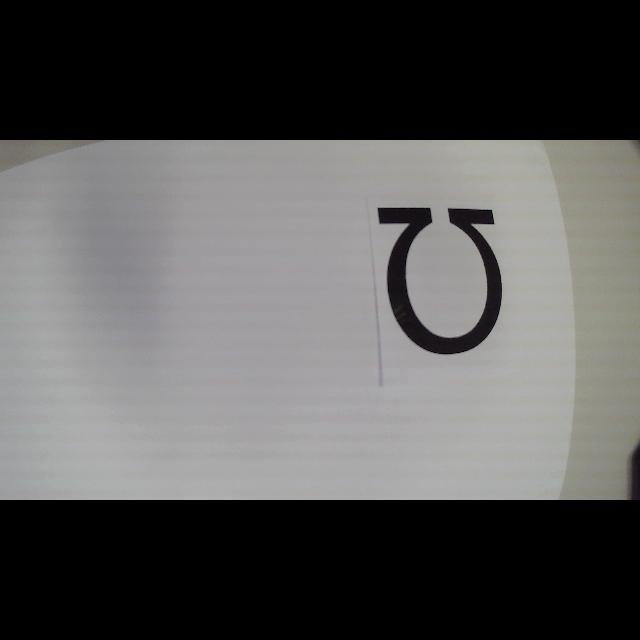OMEGA: (377, 206, 503, 354)
